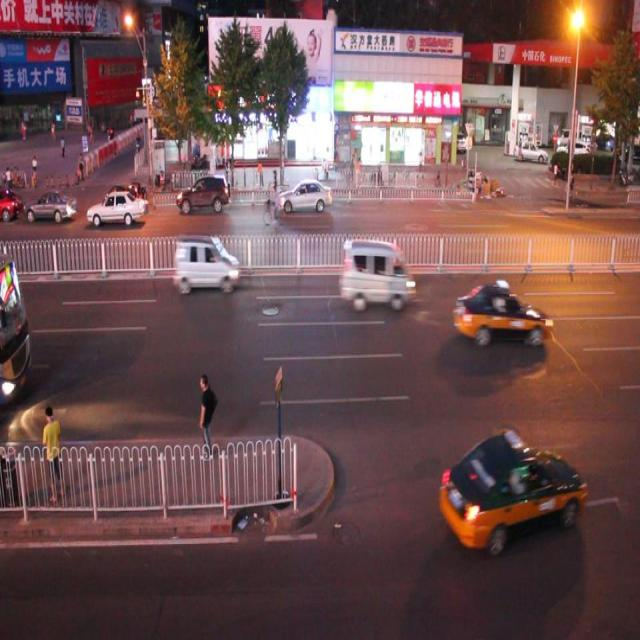car: (438, 428, 585, 550), (453, 278, 552, 347), (339, 237, 415, 313), (173, 237, 241, 294), (175, 170, 231, 216), (278, 174, 332, 217), (87, 190, 147, 228), (23, 186, 78, 226), (101, 180, 145, 223)
